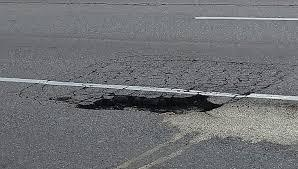alligator-crack: (78, 54, 286, 95)
pothole: (75, 89, 224, 115)
